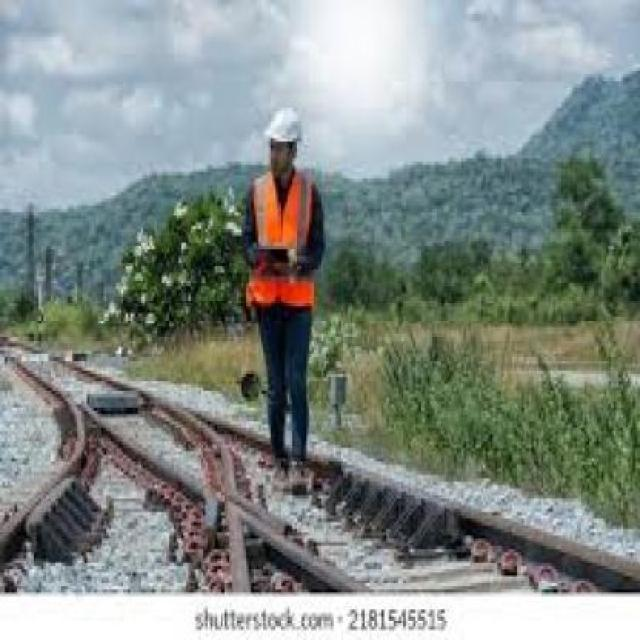danger: (245, 115, 322, 492)
rail: (0, 318, 635, 598)
